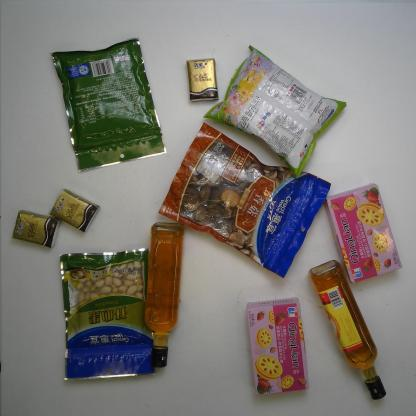Dessert: (320, 181, 404, 288), (244, 298, 309, 398)
Dried Food: (159, 120, 334, 280)
Dried Fruit: (47, 35, 169, 173), (56, 247, 156, 381)
Puffed Food: (201, 43, 348, 181)
Seasoner: (308, 258, 388, 401), (142, 218, 186, 370)
Tissue: (46, 186, 101, 236), (9, 207, 61, 251), (184, 56, 221, 105)
